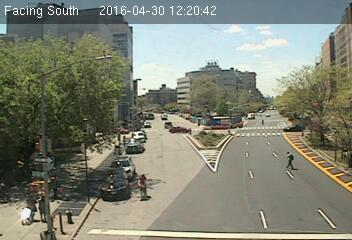neg: (263, 38, 298, 85), (128, 169, 154, 203), (19, 105, 40, 134), (82, 196, 103, 224), (310, 133, 329, 158), (307, 83, 323, 104), (30, 150, 45, 170), (112, 37, 126, 56), (64, 167, 77, 186), (51, 19, 64, 37), (60, 209, 71, 225), (229, 153, 240, 167), (169, 168, 179, 182), (81, 134, 91, 147), (91, 69, 101, 81), (285, 188, 293, 200), (63, 61, 71, 72), (136, 126, 143, 136), (183, 84, 188, 92), (207, 91, 212, 98), (151, 34, 156, 41), (117, 127, 122, 132), (206, 168, 210, 174), (191, 176, 195, 182), (233, 61, 237, 66)
pos: (19, 191, 43, 223), (32, 193, 53, 220), (47, 177, 65, 201), (282, 149, 299, 172), (258, 118, 267, 130), (186, 126, 194, 137), (258, 112, 264, 120)
